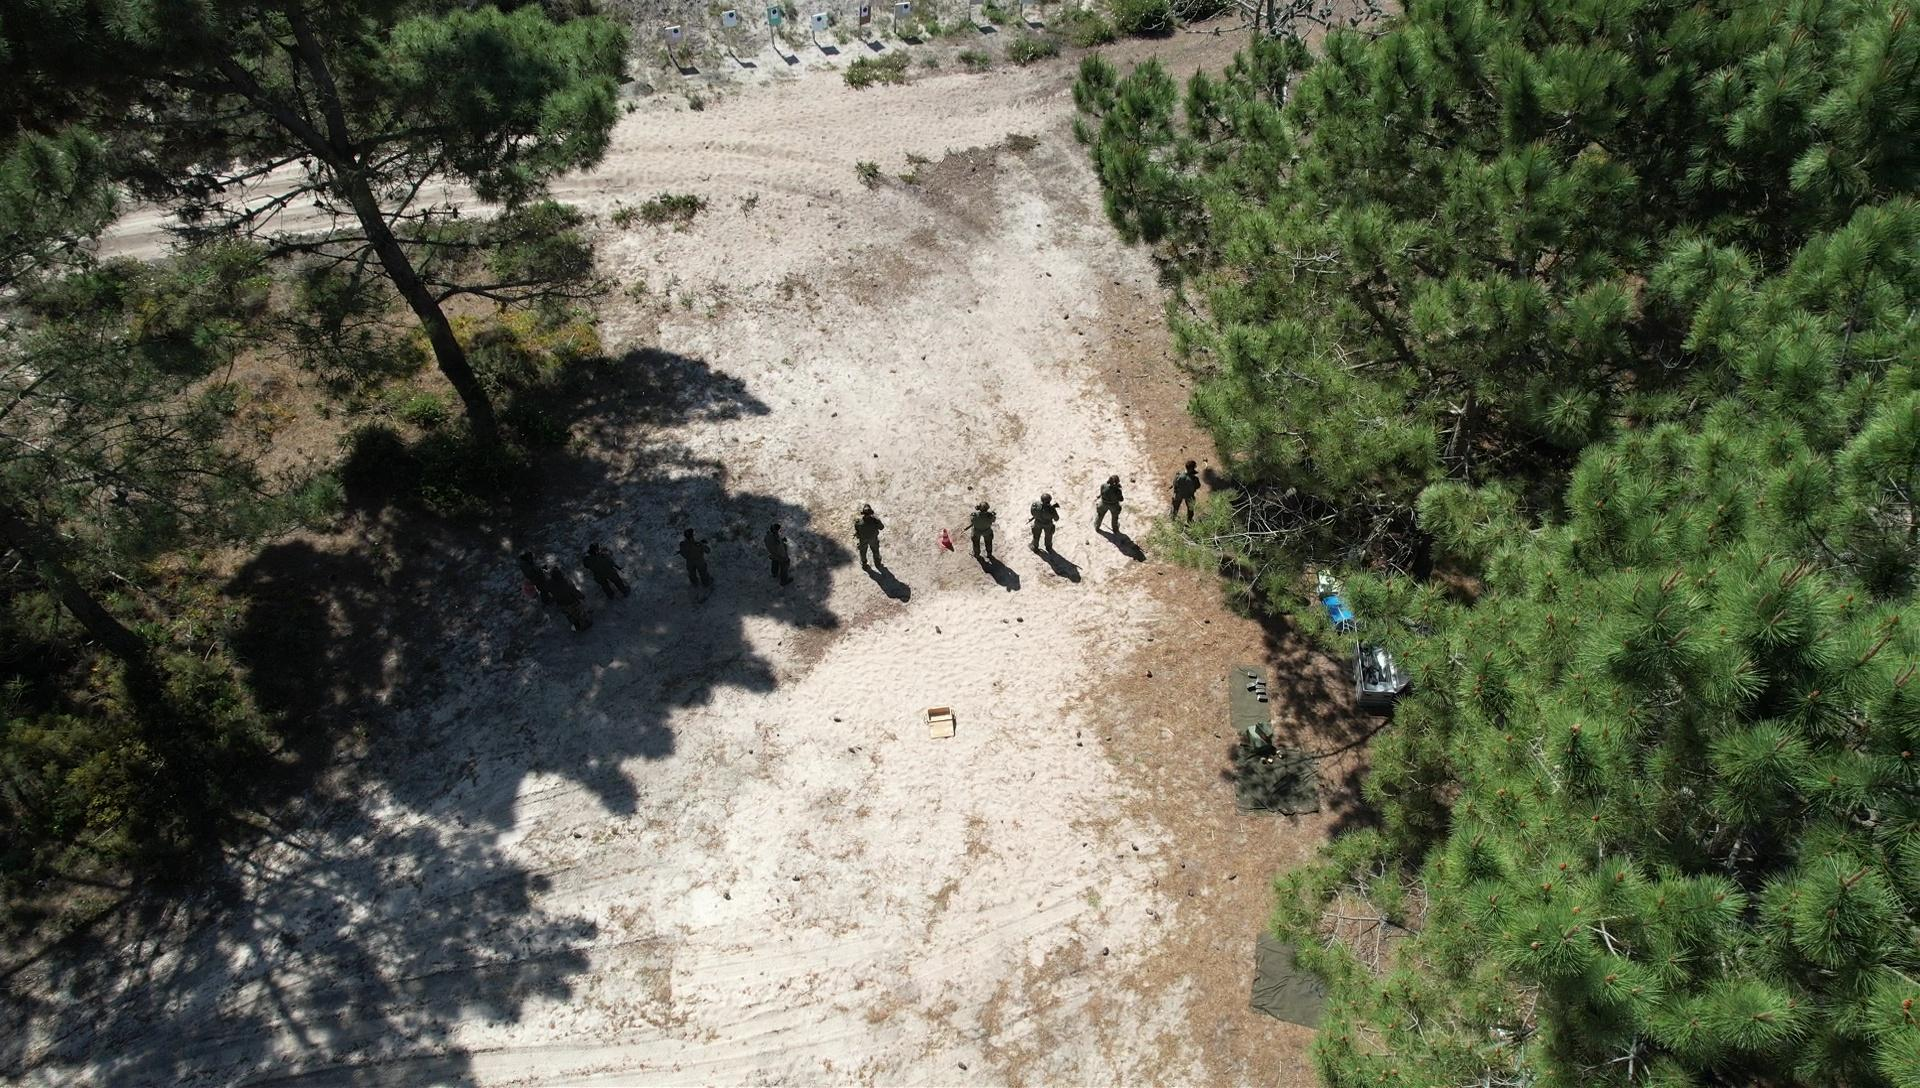Soldier: (670, 518, 721, 607), (576, 529, 632, 607), (843, 499, 887, 589), (1091, 473, 1139, 553), (542, 560, 589, 636), (1164, 455, 1211, 531), (757, 514, 800, 595), (960, 499, 1009, 564), (1025, 488, 1068, 560), (516, 547, 551, 604)
